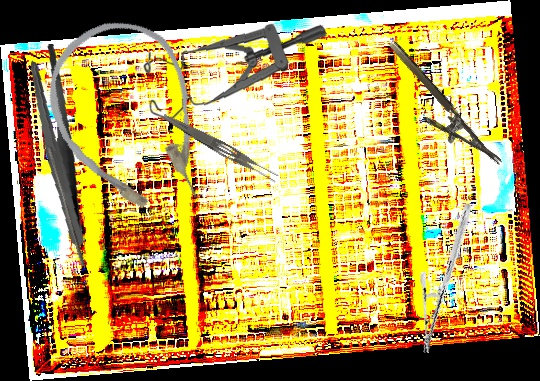Cannula: (28, 2, 230, 239)
Dressing Forceps: (15, 42, 101, 246), (159, 111, 281, 185)
Needle Holder: (372, 38, 503, 183), (393, 203, 501, 354)
Pusher: (43, 146, 90, 267)
Speculum: (140, 13, 328, 130)
